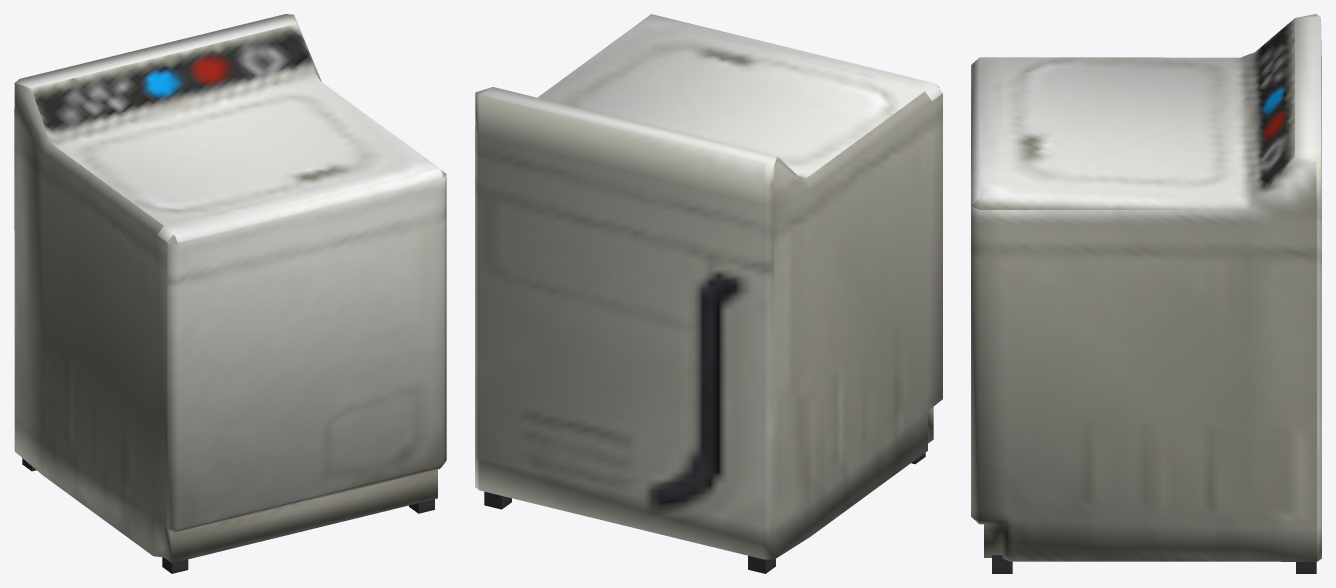
File: W_Washer.fbx
3 renders of one model, left to right at view 1: azimuth 30°, elevation 25°; view 2: azimuth 150°, elevation 25°; view 3: azimuth 270°, elevation 25°, orthographic. The views are drawn at different scales.
Parts seen in each view (by area): view 1: Washer; view 2: Washer; view 3: Washer.
Part boxes in pixels (<box>): Washer: <box>14,14,446,573</box>; Washer: <box>475,14,942,573</box>; Washer: <box>971,14,1321,573</box>.
Size of the model in its own units: 0.5306 by 0.6913 by 0.5269.
